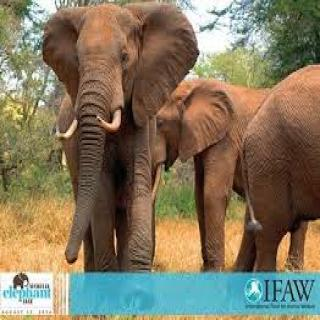Elephant: (39, 0, 203, 270)
